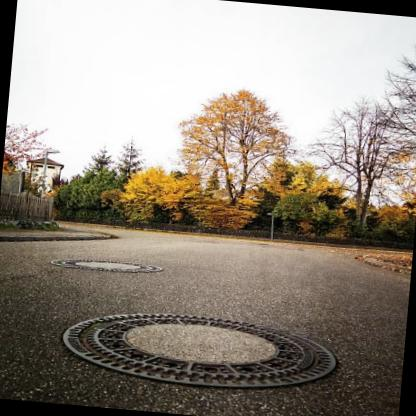manholes: (40, 282, 359, 416), (36, 238, 174, 296)
